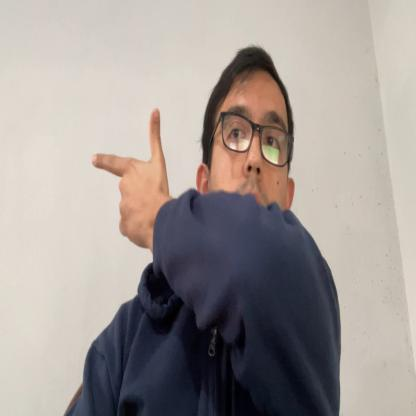G: (92, 107, 162, 248)
